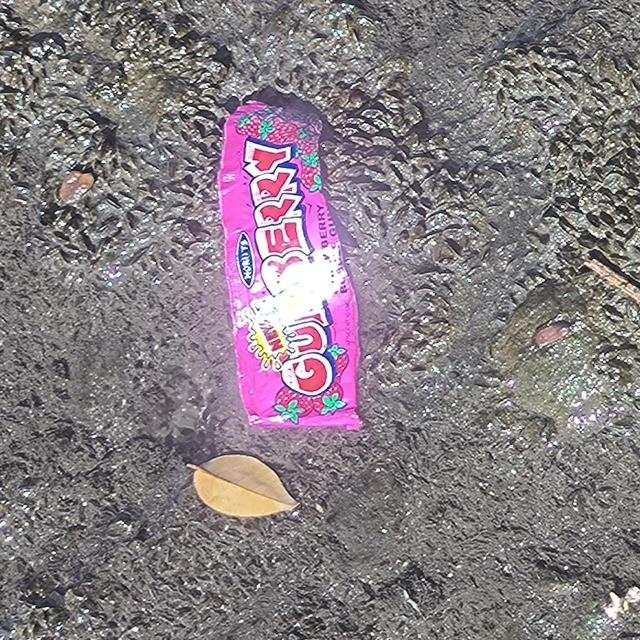plastic_waste: (218, 97, 362, 431)
